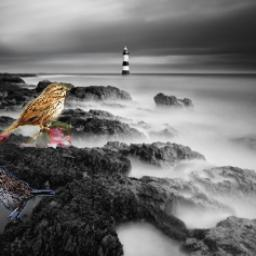Sparrow: (0, 82, 71, 148), (0, 165, 55, 224)
